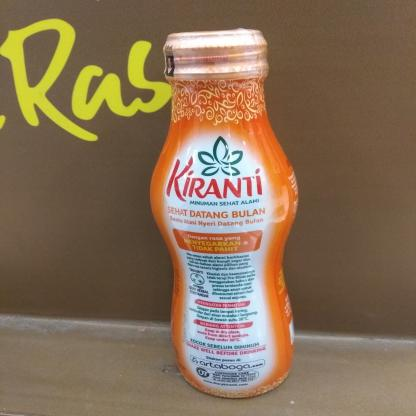keyboard: (143, 24, 306, 402)
